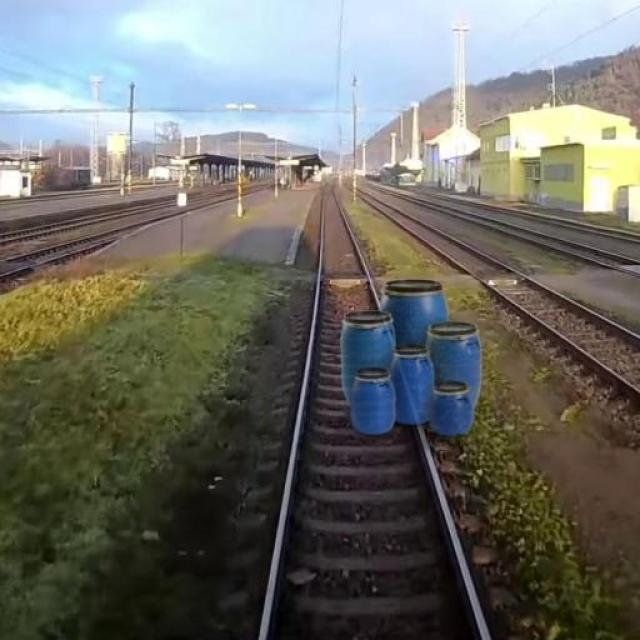Other_objects: (341, 280, 491, 436)
